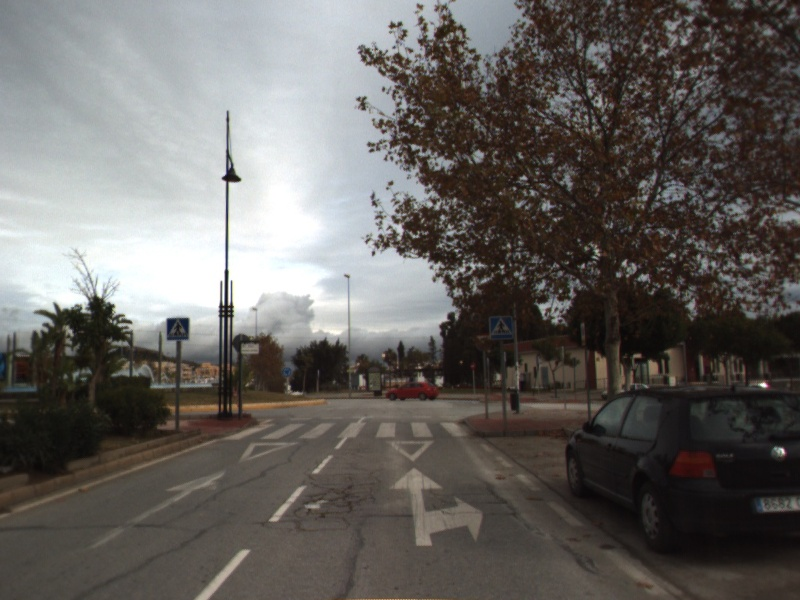STRAIGHT: (85, 467, 229, 551)
STRAIGHT_RIGHT: (387, 465, 485, 548)
